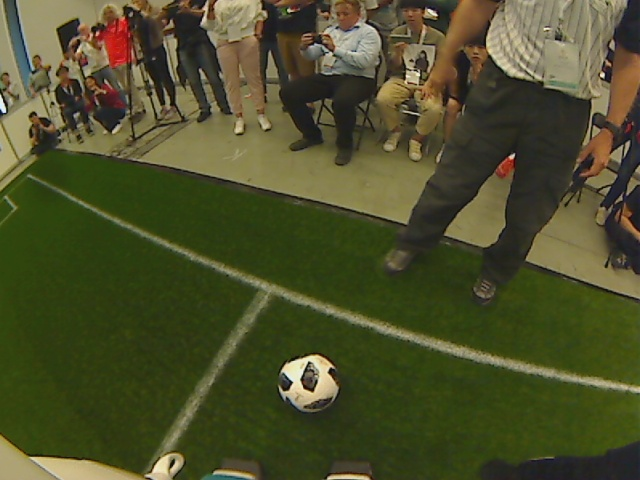ball: (277, 351, 341, 414)
